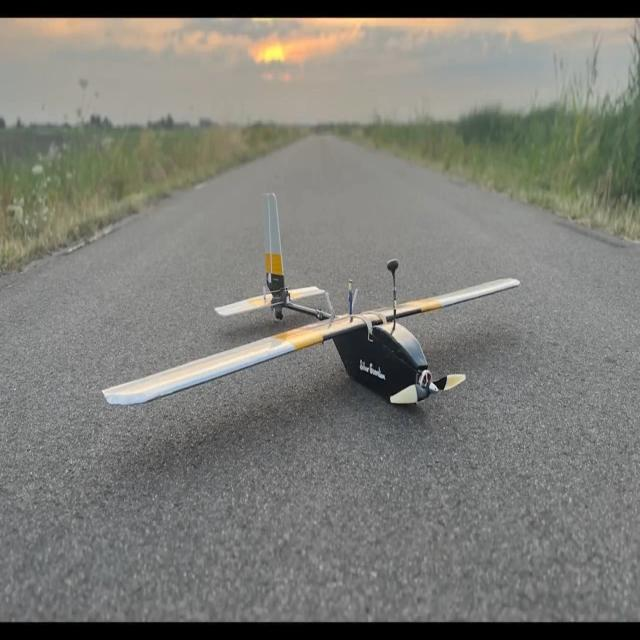iha: (102, 186, 522, 434)
